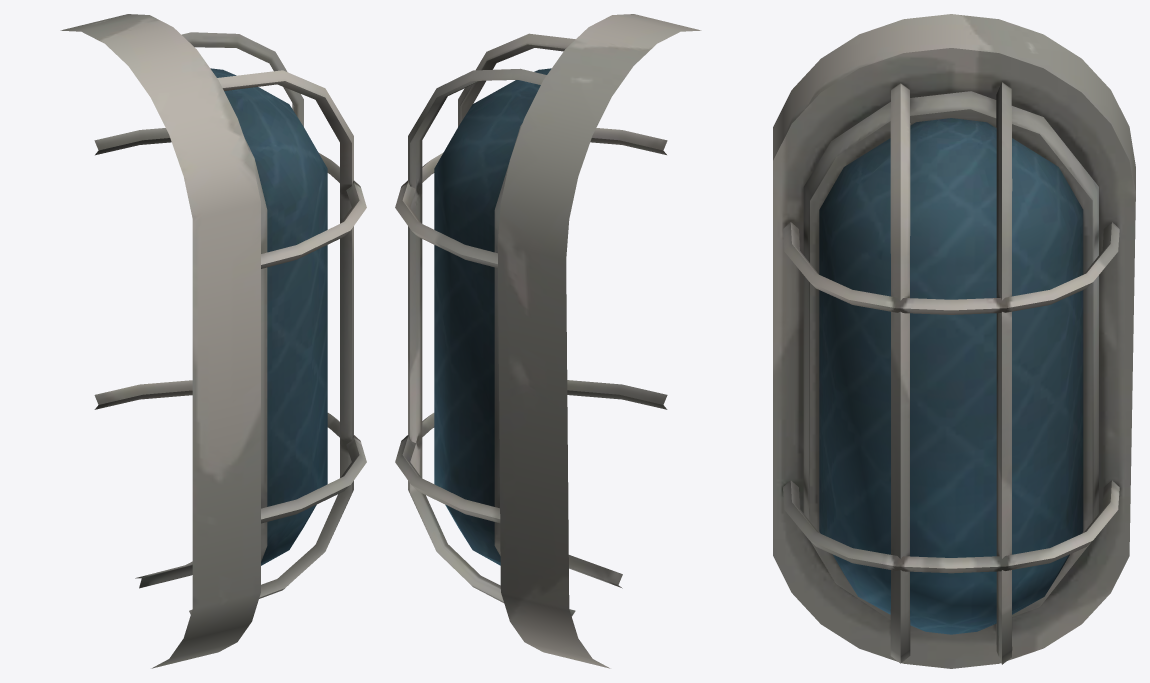
3 renders of one model, left to right at view 1: azimuth 30°, elevation 25°; view 2: azimuth 150°, elevation 25°; view 3: azimuth 270°, elevation 25°, orthographic.
Visible parts, largest first — view 1: body0_model0_lod0_mesh0; view 2: body0_model0_lod0_mesh0; view 3: body0_model0_lod0_mesh0.
Part boxes in pixels (x1,y1,x2,y2): body0_model0_lod0_mesh0: (60,14,366,668); body0_model0_lod0_mesh0: (395,14,701,668); body0_model0_lod0_mesh0: (773,14,1135,668).
Size of the model in its own units: 7.05 by 17.68 by 9.35.
1 material, 1 textured.
